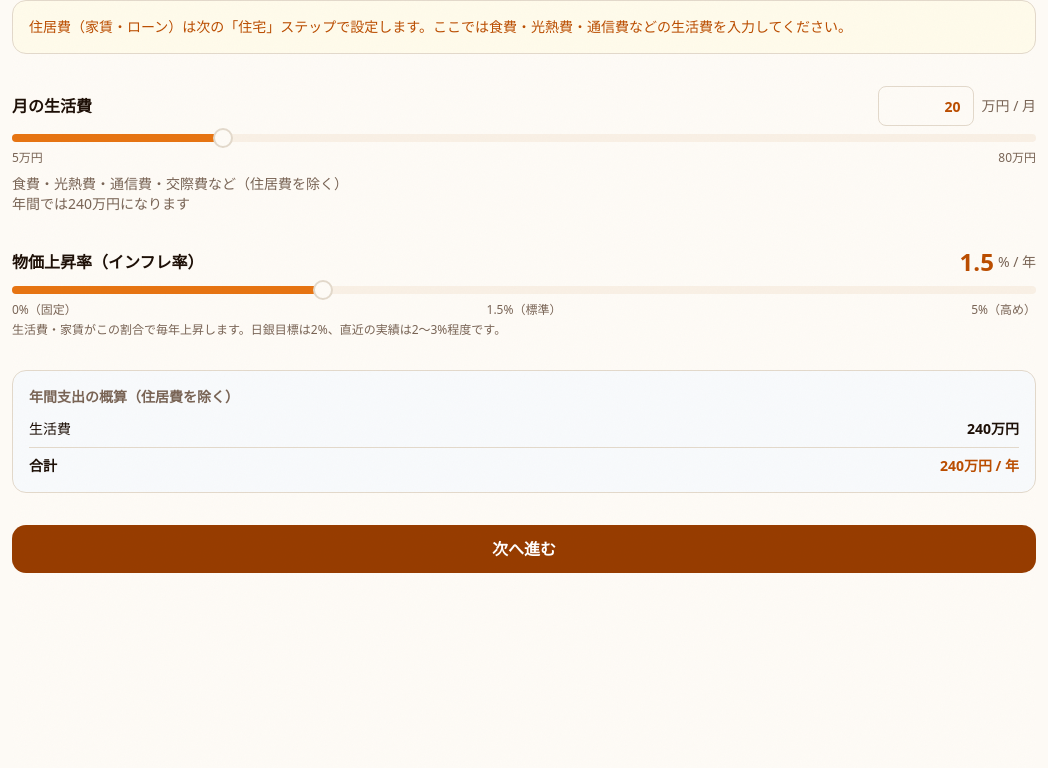
Test case: lenient numeric input (SHIG 50, 46, 55) › an out-of-range value is clamped and explained next to the field in Japanese
Replace the text in the field named "月の生活費" with "500" at (926, 106), box [878,86,974,126]
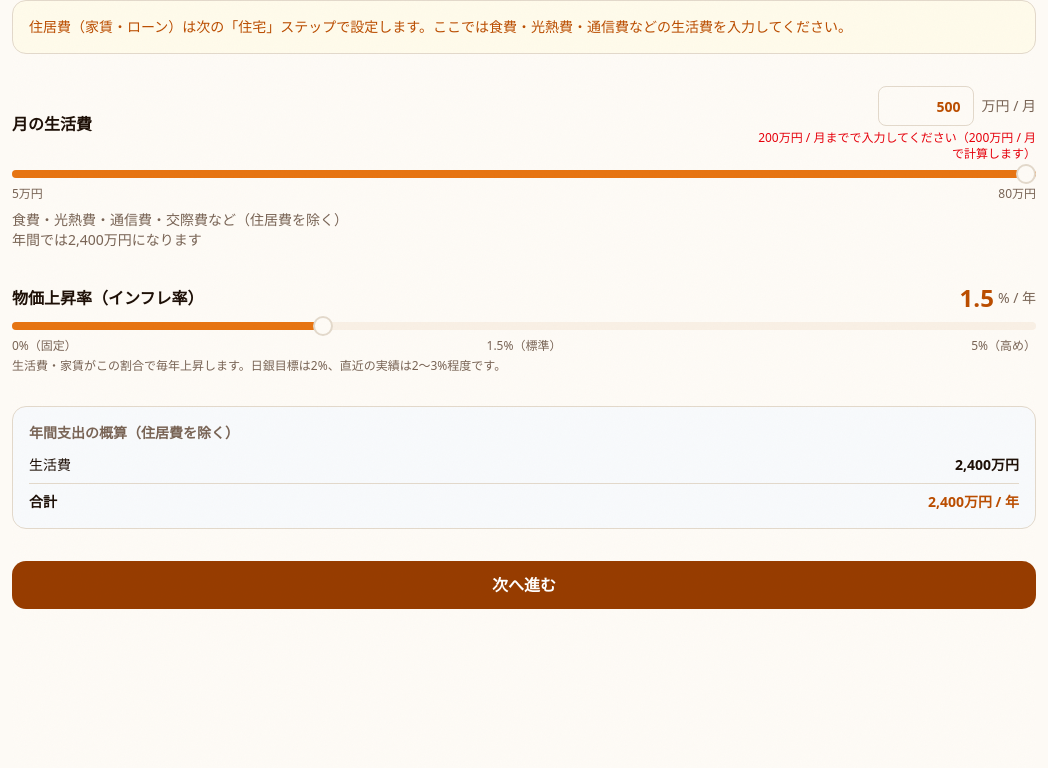
expect the text "200万円 / 月までで入力してください" is shown: met, box [758,129,1036,162]
